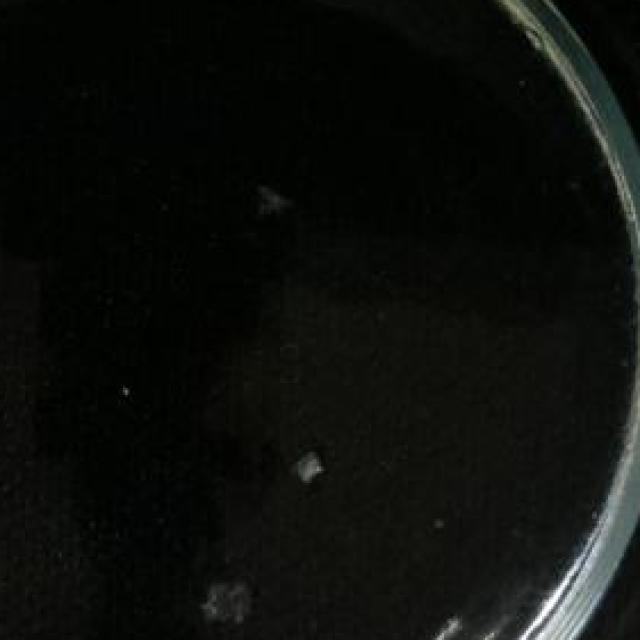Microplastic: (196, 566, 260, 630), (287, 442, 328, 488), (253, 171, 289, 219)
